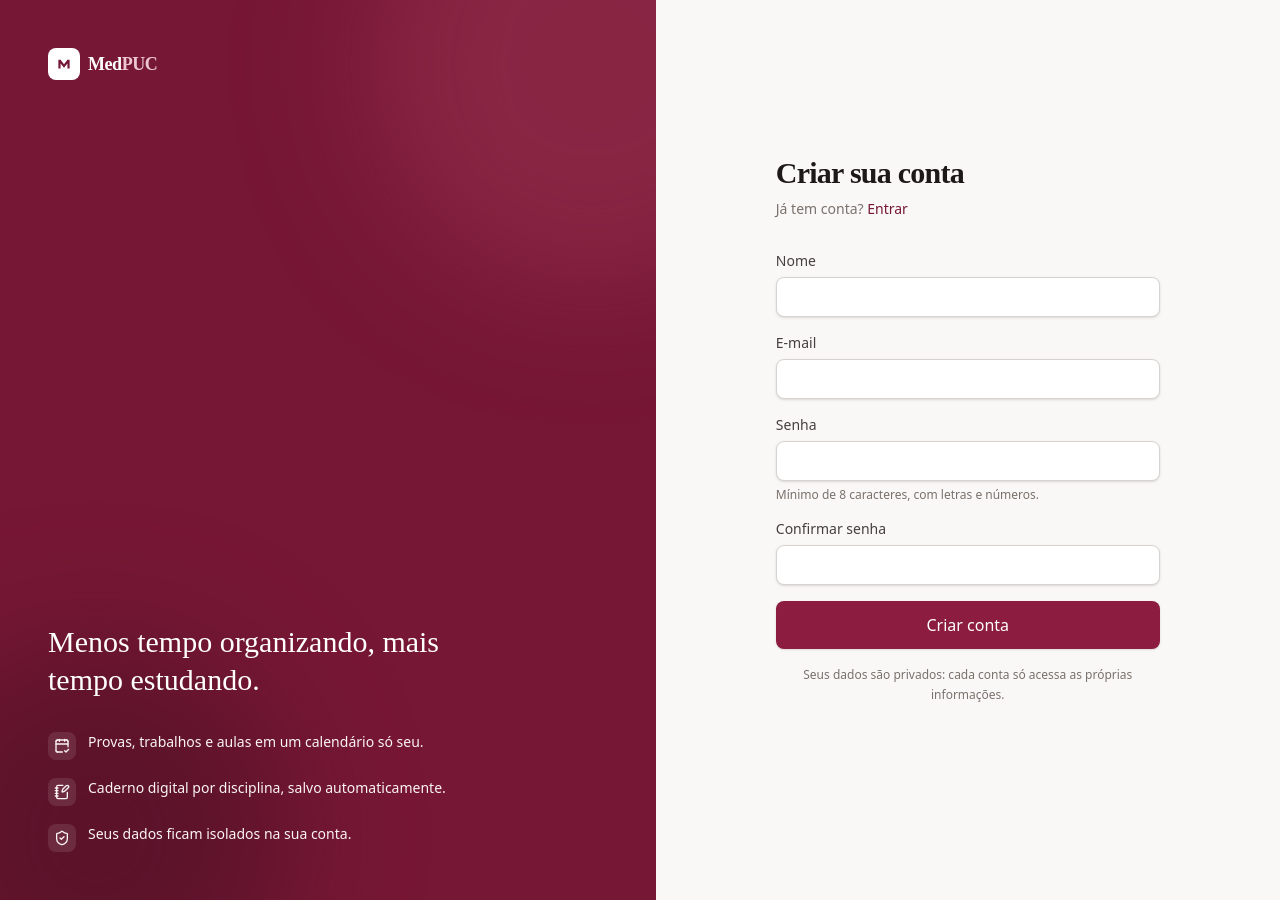
Test: cadastro › pede confirmação de e-mail quando o Supabase exige
The image size is (1280, 900).
Type "Ana Beatriz" into the field labelled "Nome". click: (968, 297)
box: [776,277,1160,317]
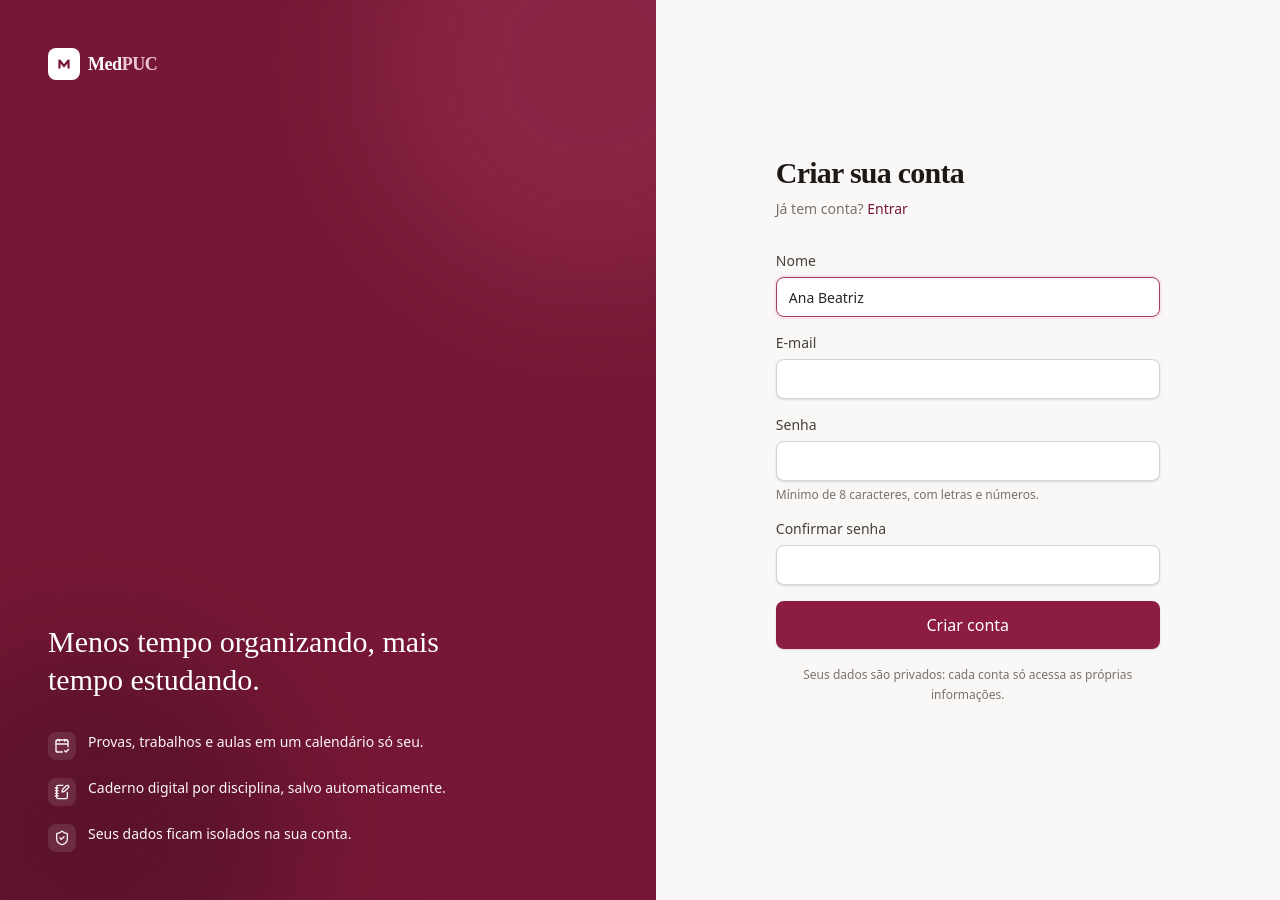
Type "ana@pucpr.edu.br" into the field labelled "E-mail". click: (968, 379)
box: [776,359,1160,399]
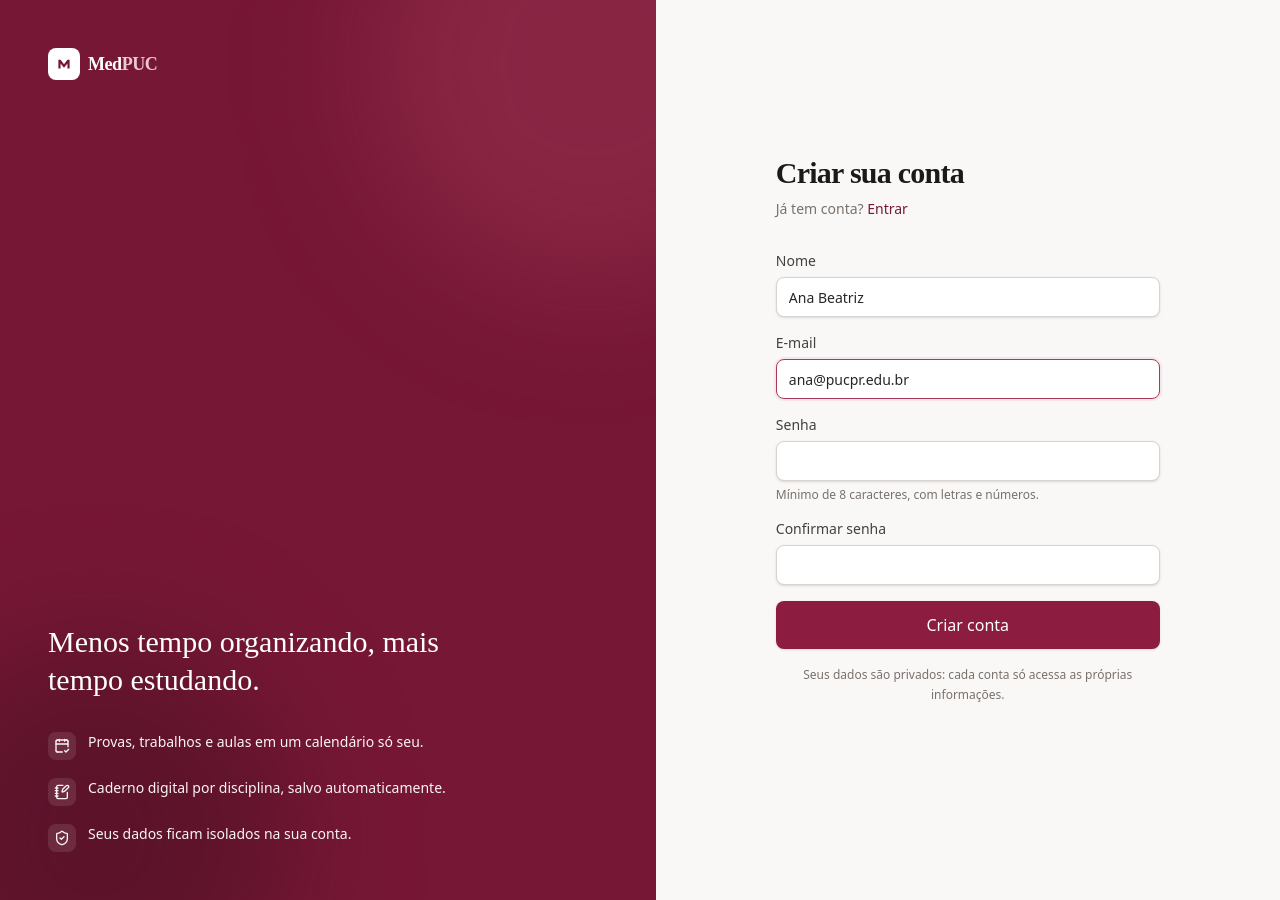
Type "abc12345" into the password field labelled "Senha". click: (968, 461)
box: [776,441,1160,481]
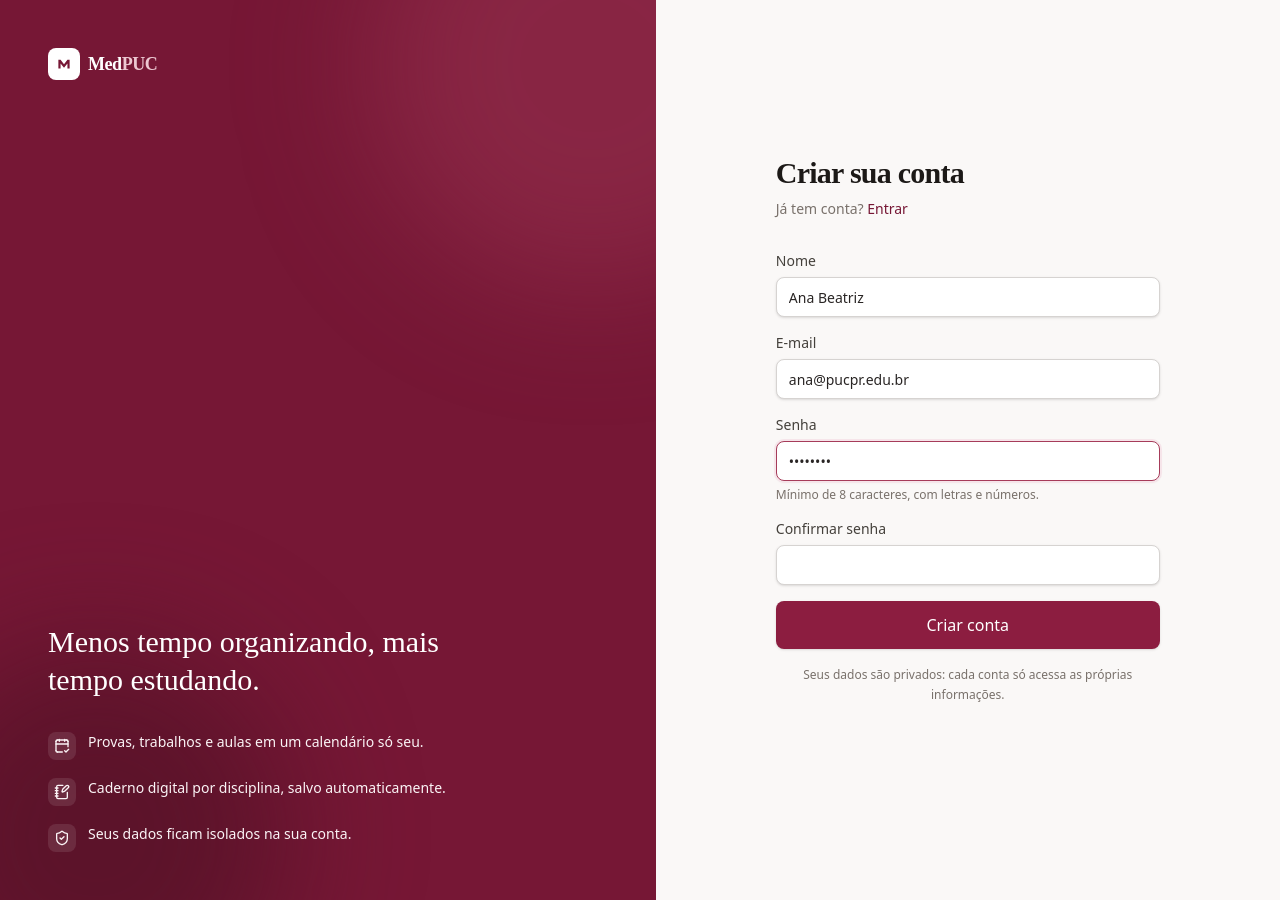
Type "abc12345" into the password field labelled "Confirmar senha". click: (968, 565)
box: [776,545,1160,585]
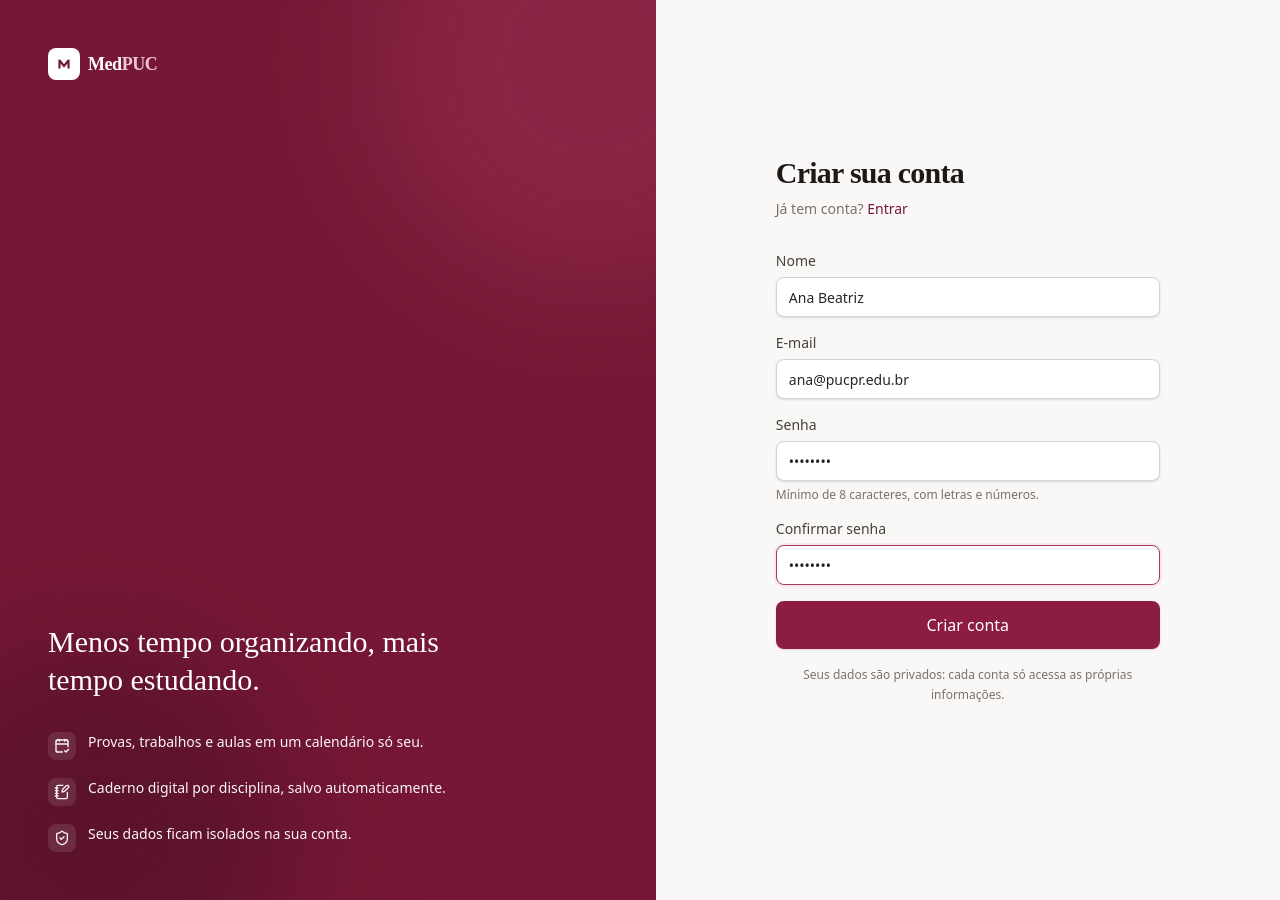
Click the button "Criar conta". click: click(968, 625)
box: [776,601,1160,649]
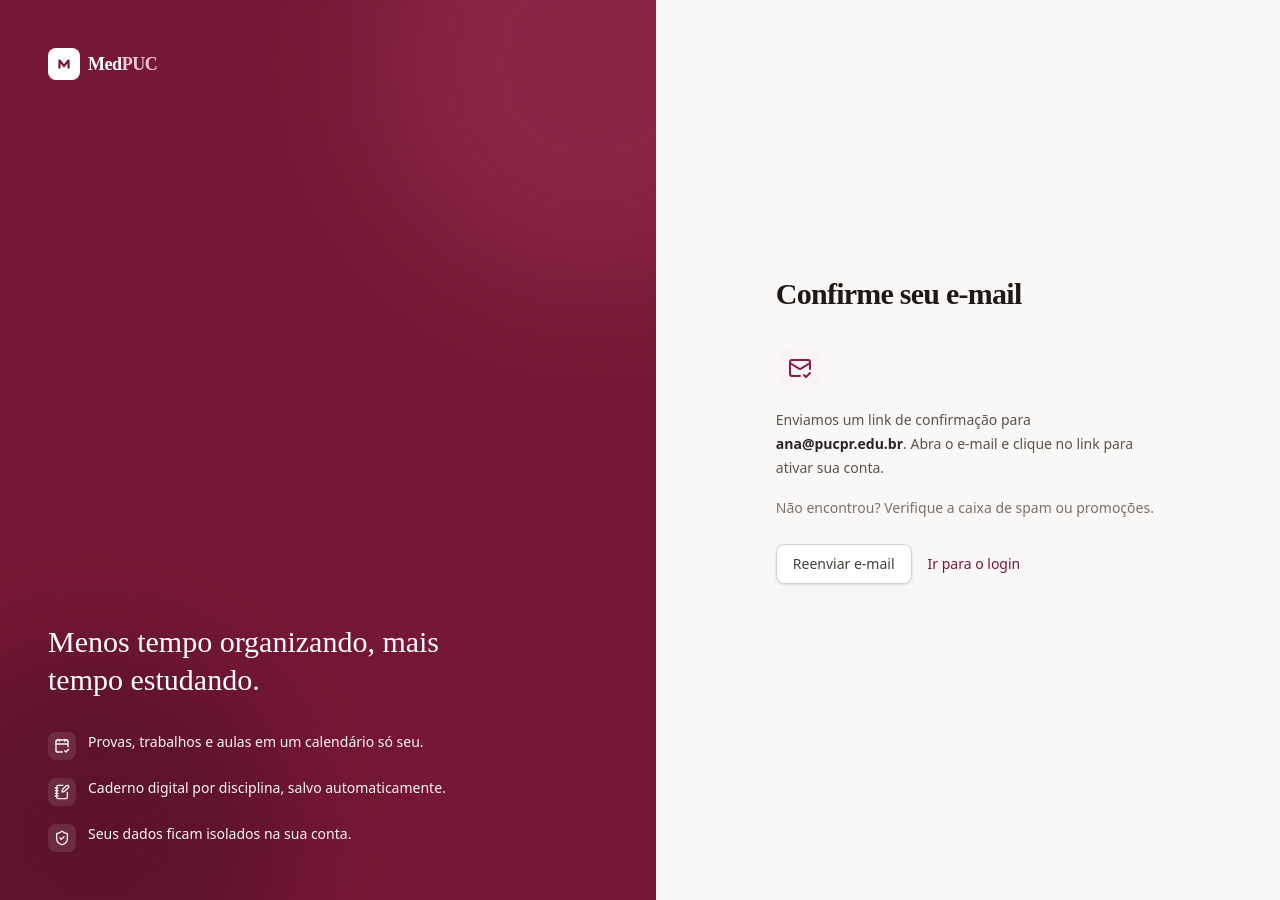
Expected: the heading "Confirme seu e-mail" is shown, [776,277,1022,310]
Expected: the text "ana@pucpr.edu.br" is shown, [776,434,903,453]
